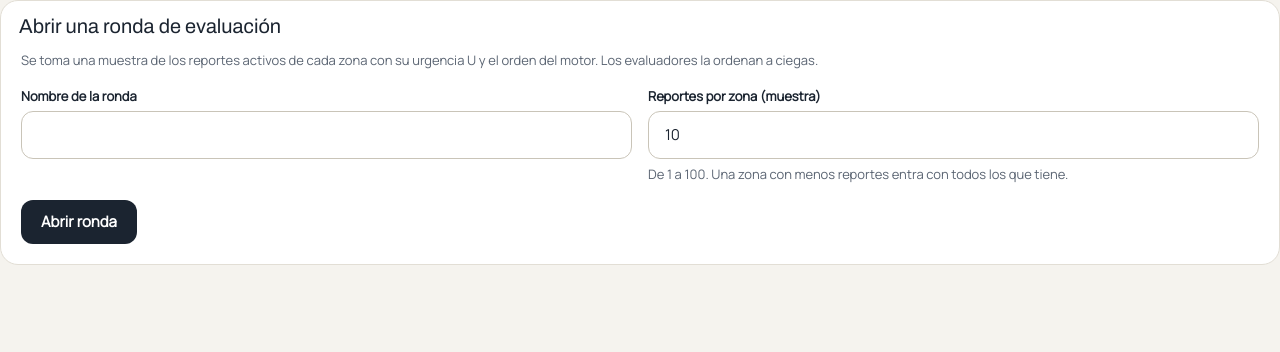
Test: abrir una ronda › una zona con pocos reportes muestra cuál es y cuántos tiene
Type "Piloto 3" into the field labelled "Nombre de la ronda" at (326,134), box [21,110,632,158]
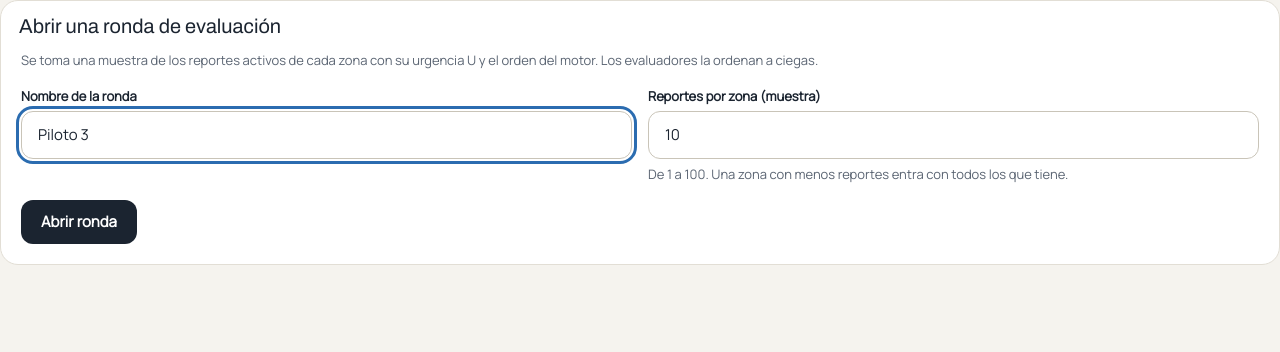
Replace the text in the field labelled "Reportes por zona (muestra)" with "8" at (954,134), box [648,110,1259,158]
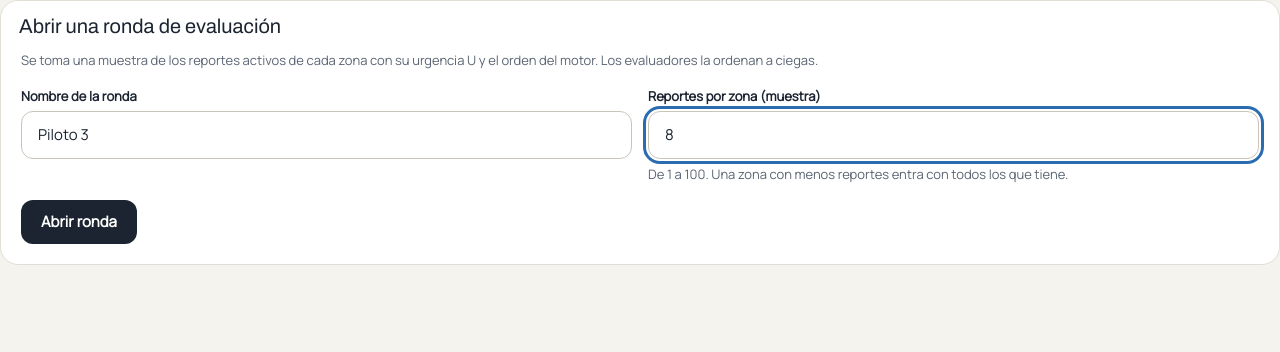
Click the button "Abrir ronda" at (79,222), box [21,200,137,244]
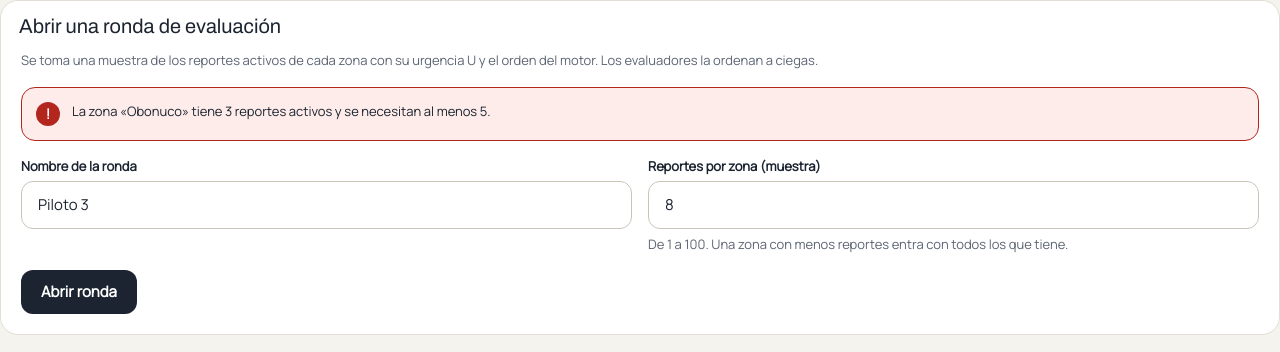
Expected: the message shows "La zona «Obonuco» tiene 3 reportes activos y se necesitan al menos 5.", [72,102,491,120]
